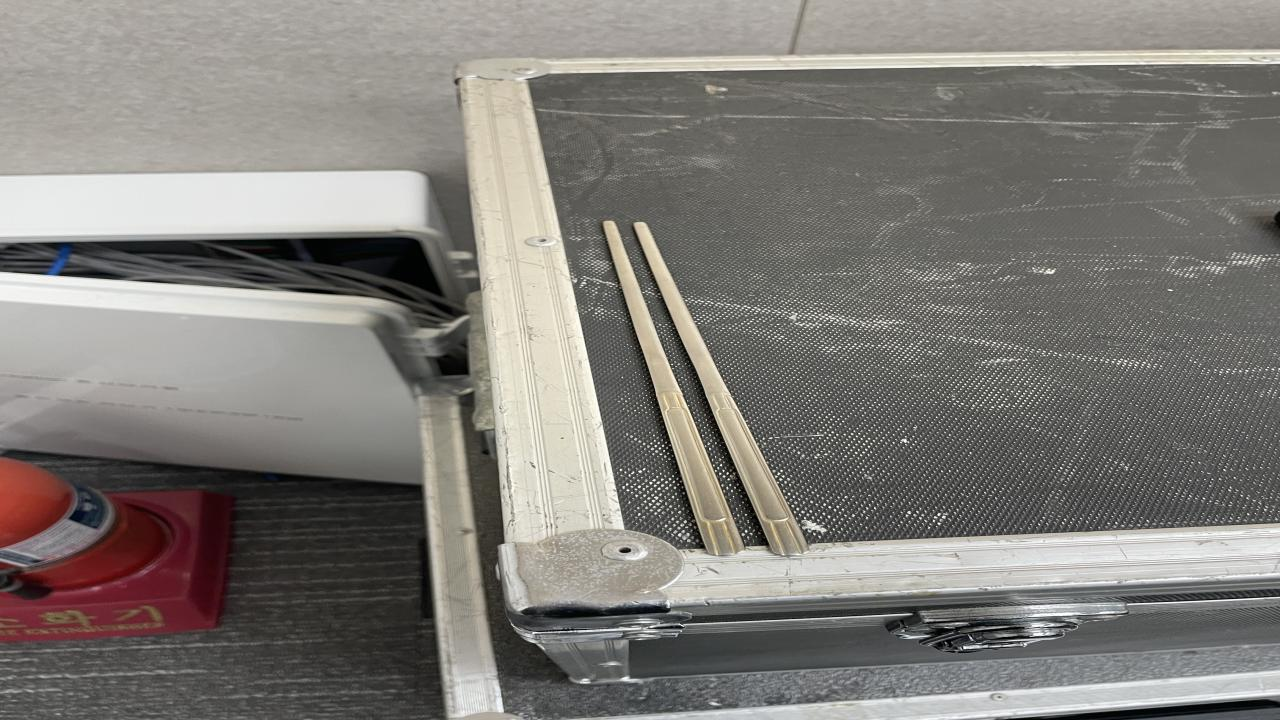chopstick: (597, 219, 813, 564)
